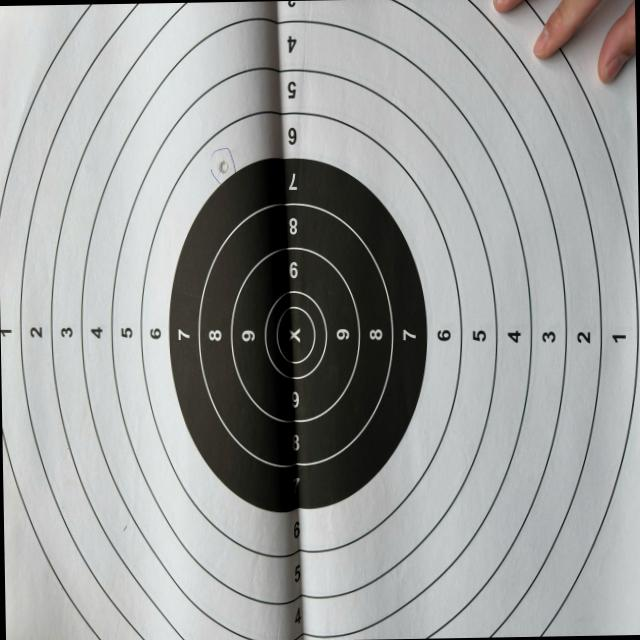bullet: (217, 158, 232, 173)
target: (0, 0, 640, 640)
